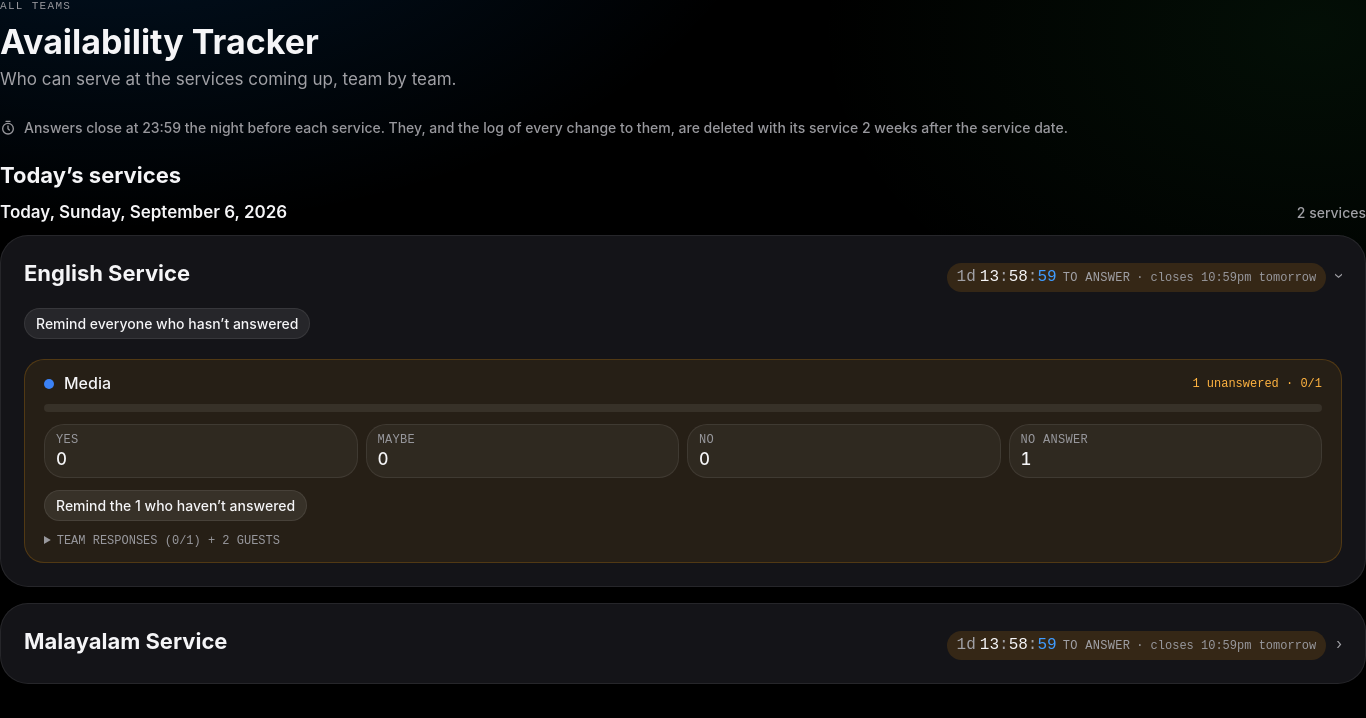
Test case: guests on a team › lists every guest, answered or not, and somebody with no account too
Click the heading "Team responses (0/1) + 2 guests" at (168, 541), box x1=57 y1=534 x2=280 y2=548
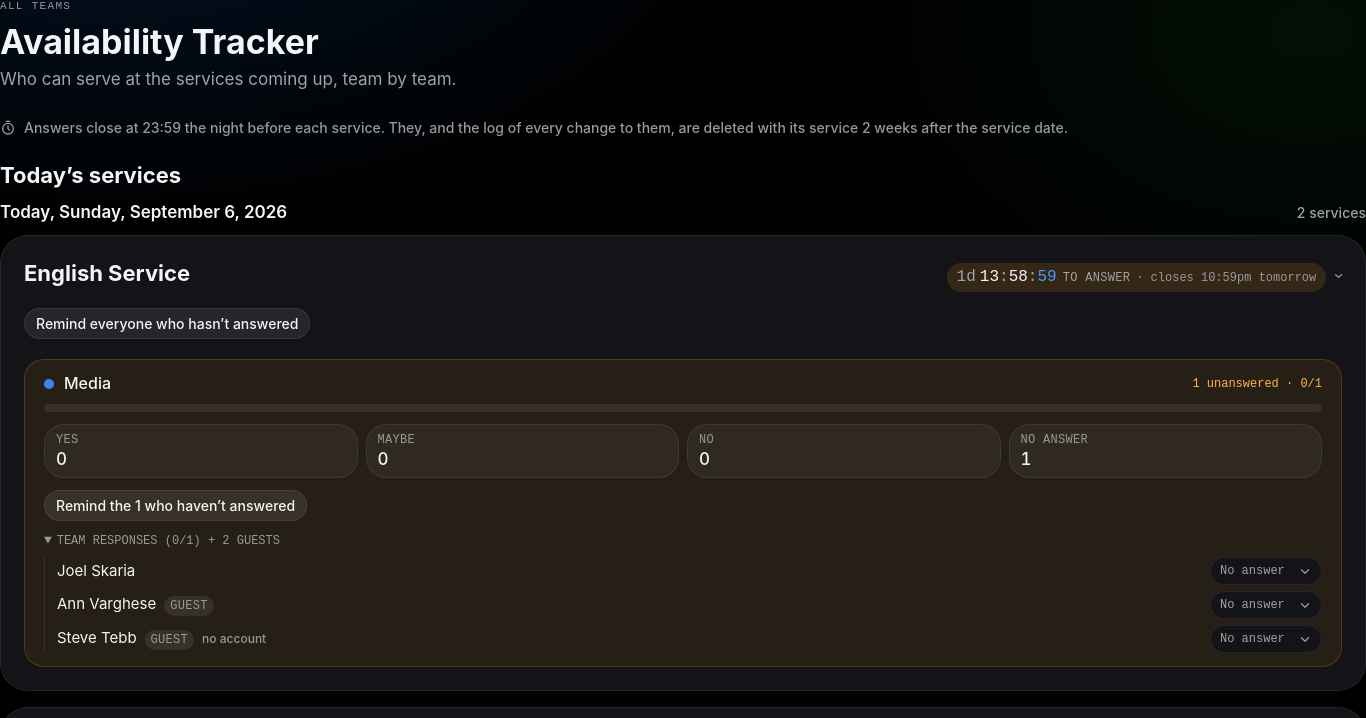
Now the text "Ann Varghese" is shown, box x1=57 y1=594 x2=156 y2=614
Now the text "Steve Tebb" is shown, box x1=57 y1=628 x2=137 y2=648
Now the text "no account" is shown, box x1=202 y1=631 x2=266 y2=647
